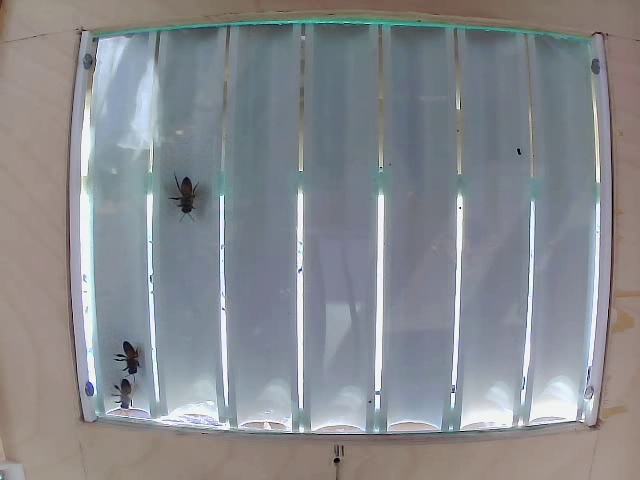bee: (167, 163, 199, 222), (109, 332, 147, 371)
